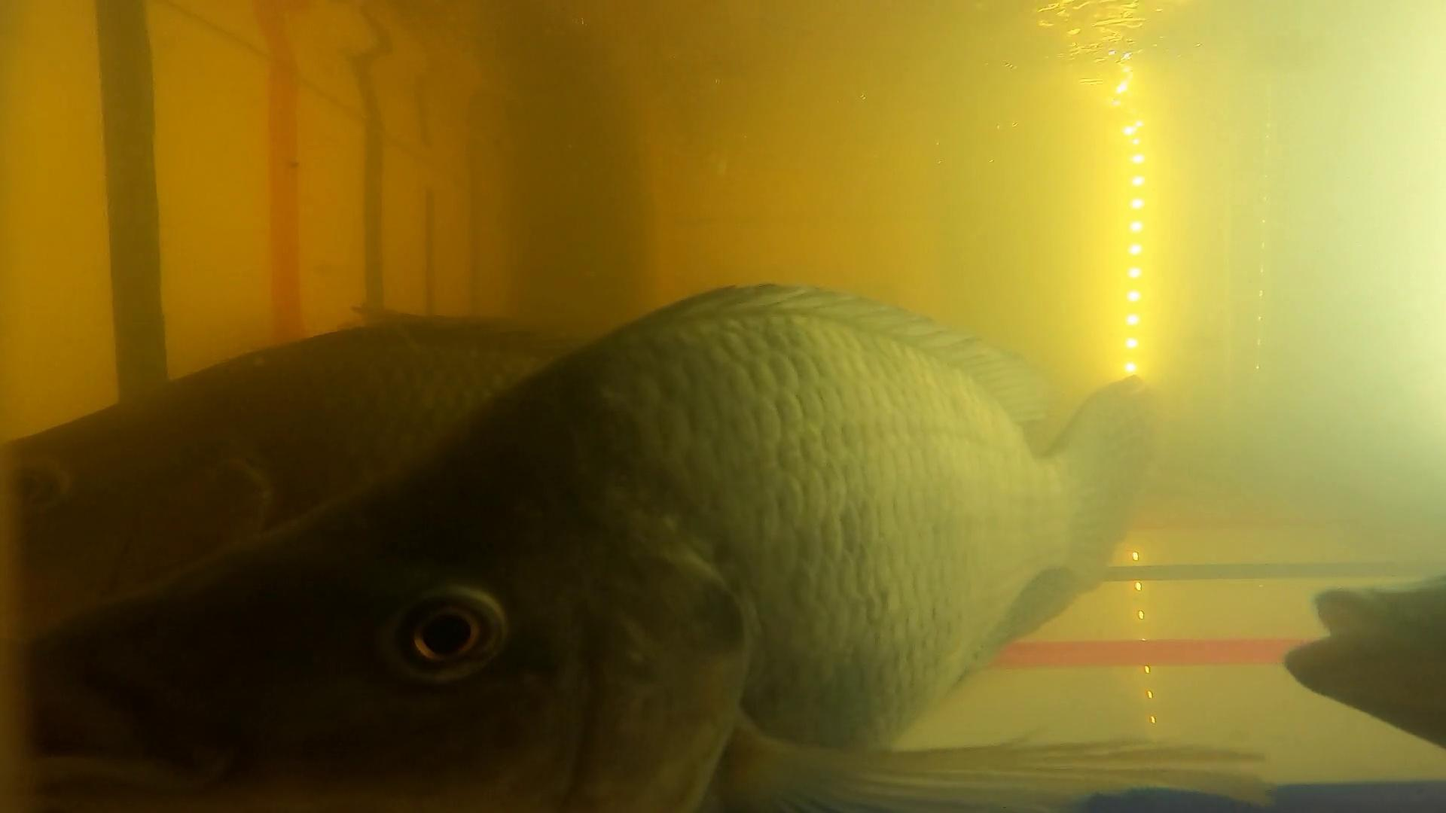Tilapia: (21, 284, 1159, 813)
